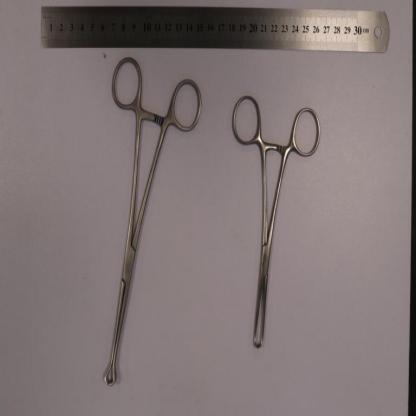8 Babcock Tissue Forceps: (103, 53, 204, 387)
Allis Tissue Forceps: (230, 94, 322, 350)
